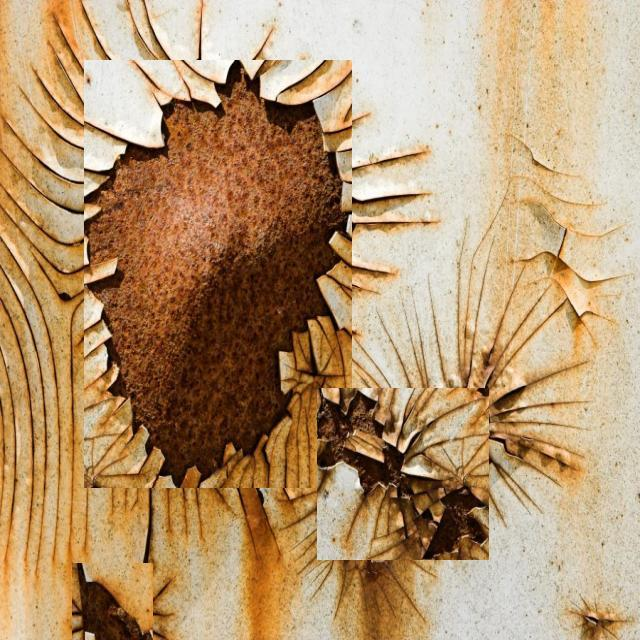Corrosion: (86, 68, 345, 480), (318, 392, 403, 492), (425, 490, 490, 561), (80, 582, 152, 640)
